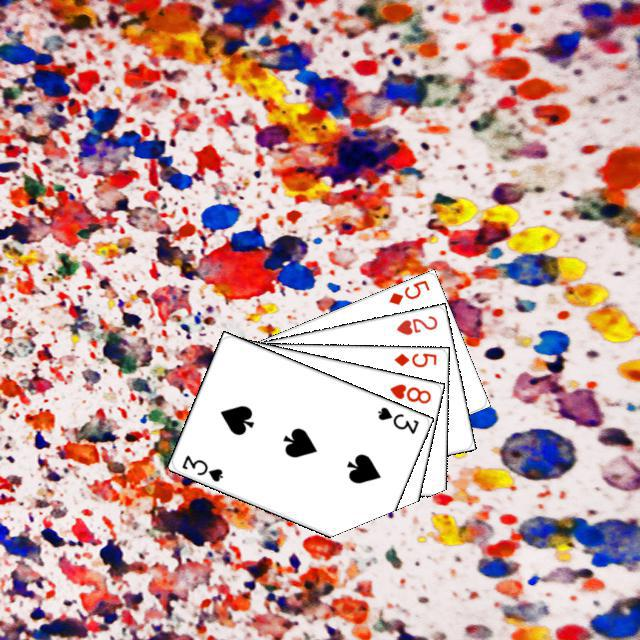2h: (392, 311, 439, 337)
3s: (372, 402, 420, 436), (177, 450, 225, 484)
5d: (384, 275, 431, 307), (389, 348, 438, 369)
8h: (385, 379, 433, 405)
